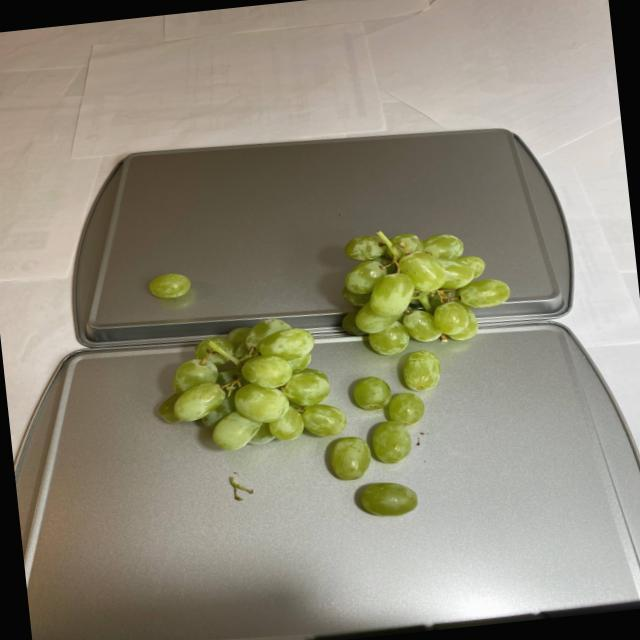grapes: (140, 218, 530, 544)
